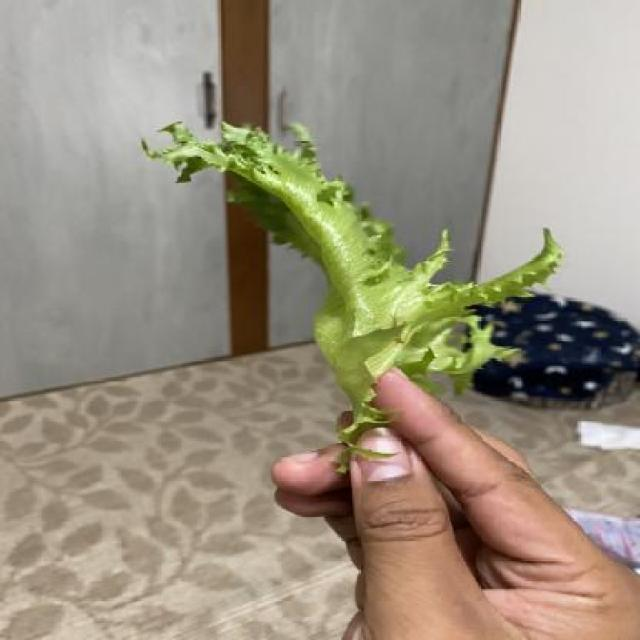Lettuce head: (142, 116, 566, 481)
